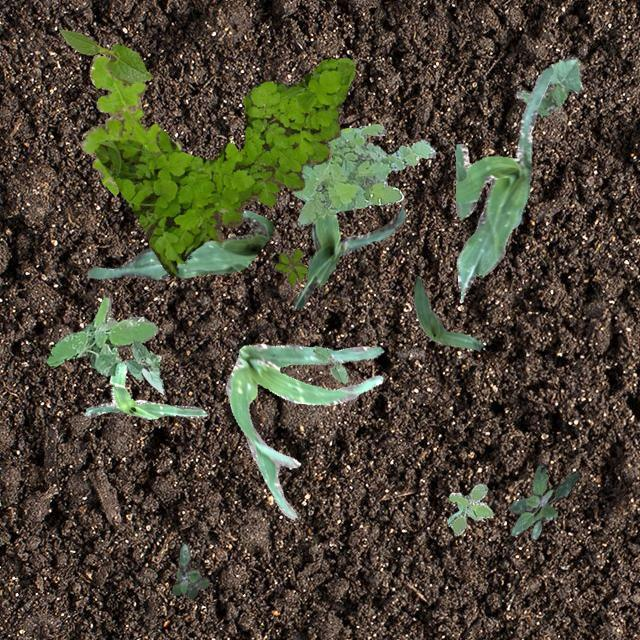crop: (225, 342, 382, 518), (453, 66, 552, 292), (86, 208, 272, 278), (292, 205, 406, 308), (84, 360, 205, 418), (412, 276, 482, 350), (58, 28, 150, 82), (516, 55, 582, 114), (124, 338, 164, 394), (312, 346, 348, 382)
weed: (93, 56, 354, 274), (292, 123, 434, 225), (80, 54, 180, 194), (46, 296, 156, 374), (508, 464, 578, 538), (447, 482, 492, 534), (170, 542, 208, 598), (274, 248, 306, 284)
